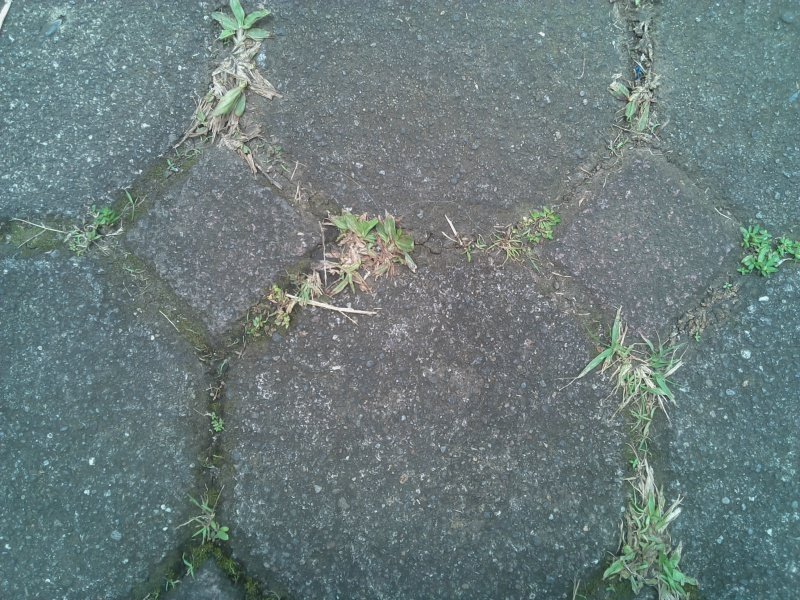Weed: (596, 472, 706, 600), (189, 3, 274, 154), (589, 329, 681, 428), (319, 209, 415, 287), (608, 57, 664, 145), (736, 222, 798, 284), (239, 281, 295, 344), (501, 206, 557, 261), (177, 497, 231, 545), (72, 209, 120, 257), (201, 406, 234, 451)
